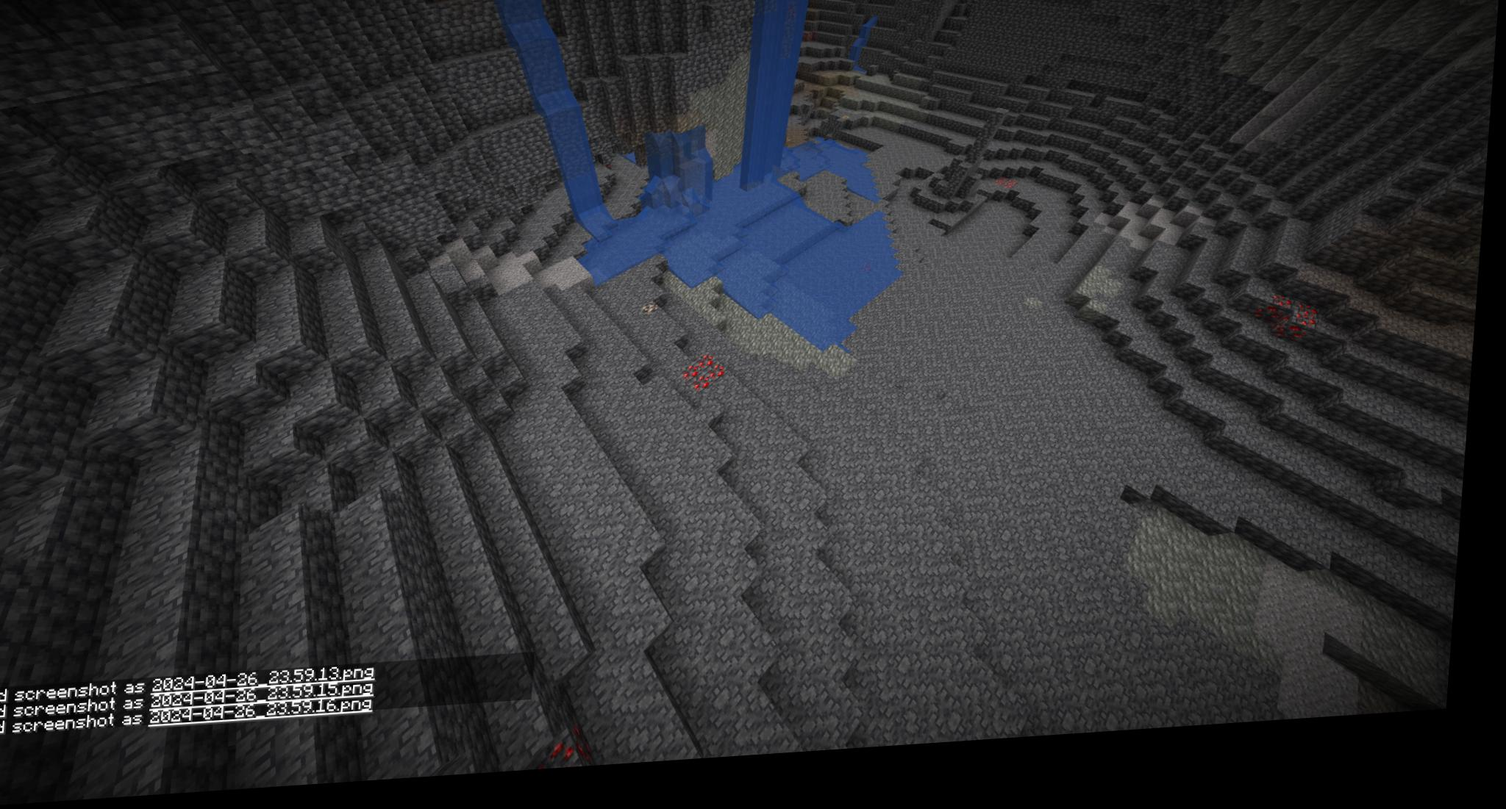iron ore: (638, 309, 663, 329)
redstone ore: (537, 726, 609, 778), (1263, 304, 1329, 360), (686, 364, 732, 401)
